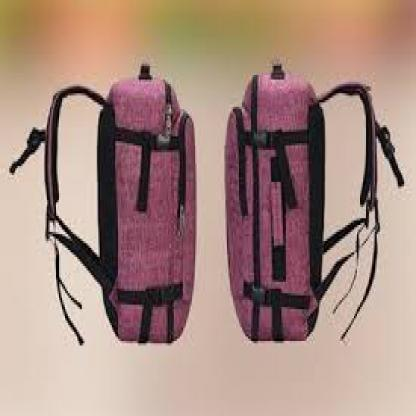morral: (216, 55, 409, 378), (4, 71, 208, 359)
